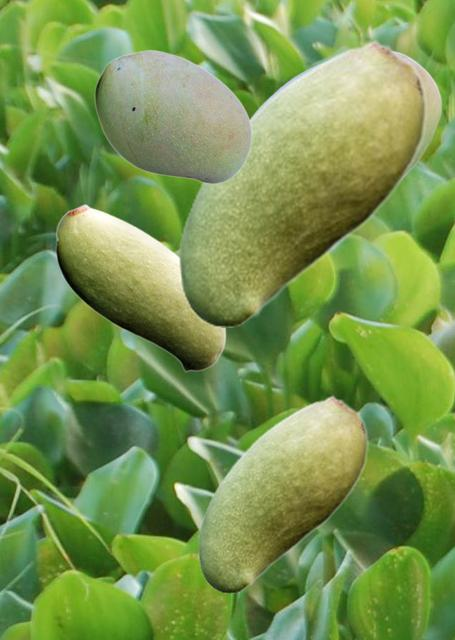green_mango: (178, 39, 426, 326), (197, 395, 367, 592), (55, 203, 225, 371), (251, 50, 441, 172), (94, 49, 251, 183)
